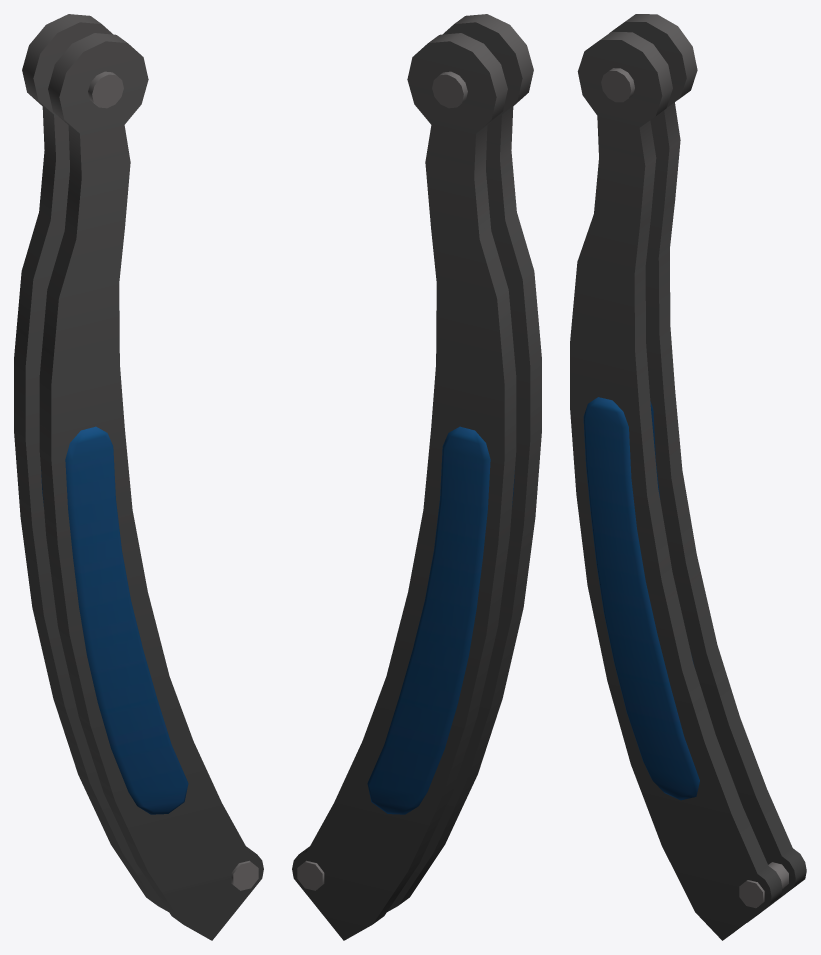
The model's file is Knife_01_HandleL.fbx.
The picture shows the model from 3 angles, left to right: view 1: azimuth 30°, elevation 25°; view 2: azimuth 150°, elevation 25°; view 3: azimuth 330°, elevation 25°; orthographic projection. The views are drawn at different scales.
Parts seen in each view (by area): view 1: Knife_01_HandleL; view 2: Knife_01_HandleL; view 3: Knife_01_HandleL.
Part boxes in pixels (left/top/right/bottom): Knife_01_HandleL: left=14, top=14, right=263, bottom=940; Knife_01_HandleL: left=292, top=14, right=541, bottom=940; Knife_01_HandleL: left=570, top=14, right=806, bottom=940.
Size of the model in its own units: 4.92 by 20.46 by 1.82.
